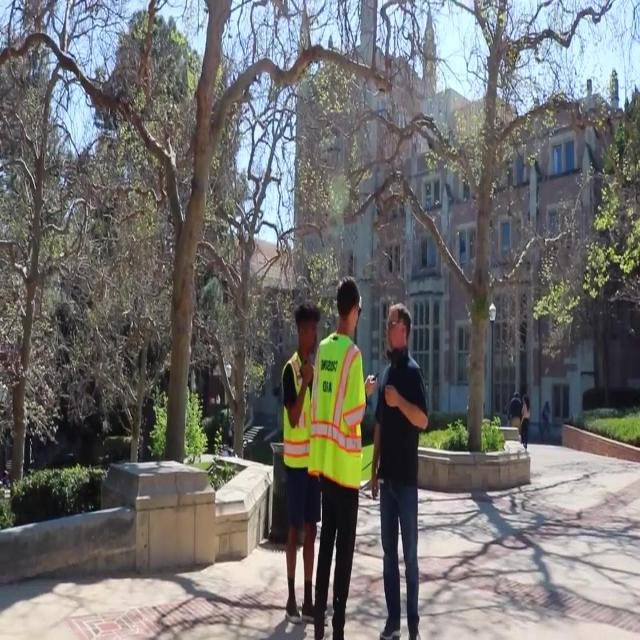Reflective-Jacket: (308, 330, 368, 492), (280, 351, 318, 475)
